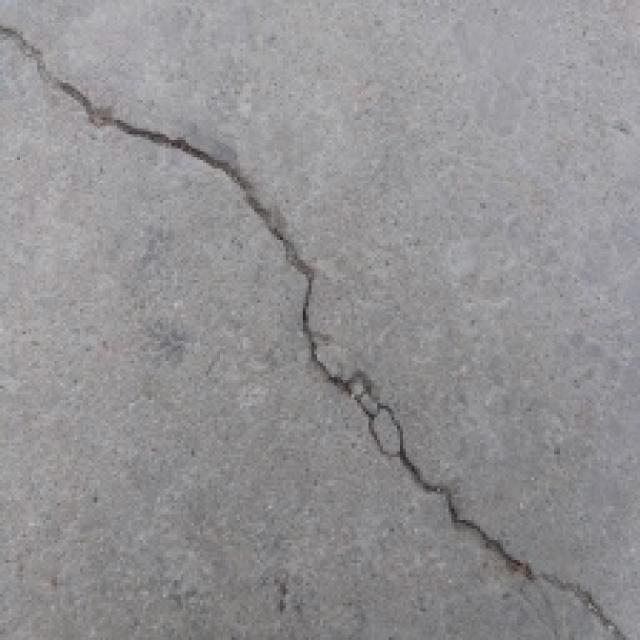crack: (6, 18, 640, 640)
